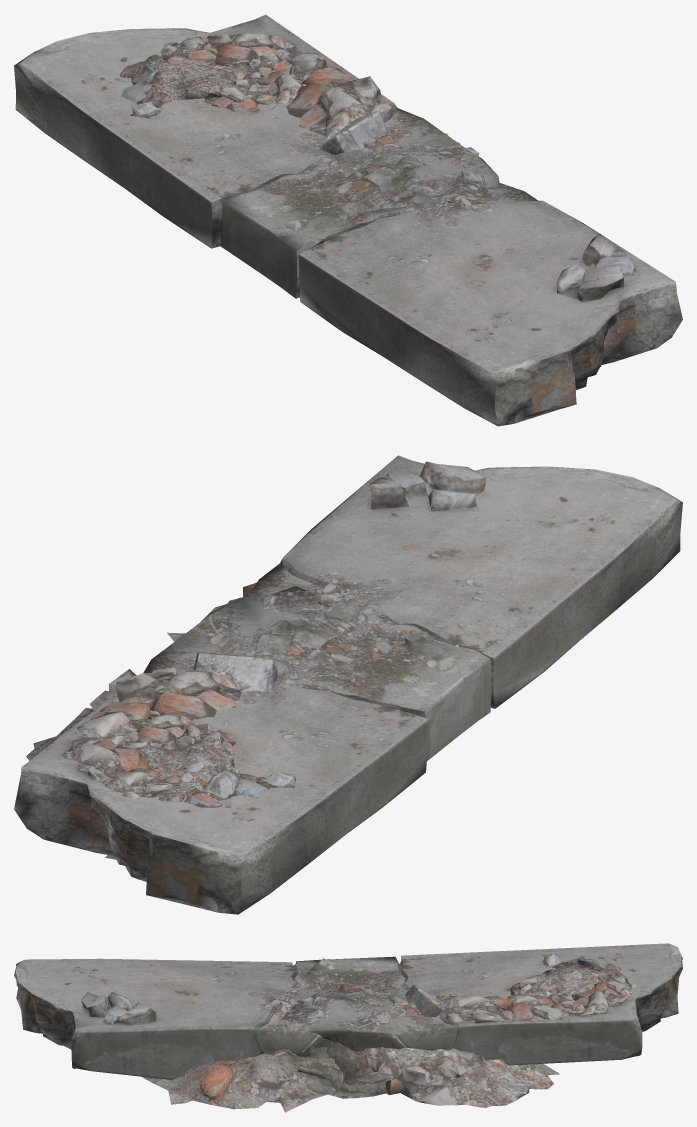
File: SM_Stairs_01_15.fbx
3 renders of one model, top to bottom at view 1: azimuth 30°, elevation 25°; view 2: azimuth 150°, elevation 25°; view 3: azimuth 270°, elevation 25°, orthographic. The views are drawn at different scales.
Visible parts, largest first — view 1: sm_Stairs_01_15_LOD0; view 2: sm_Stairs_01_15_LOD0; view 3: sm_Stairs_01_15_LOD0.
Boxes of the visible parts, <box> form: sm_Stairs_01_15_LOD0: <box>14,14,682,426</box>; sm_Stairs_01_15_LOD0: <box>14,455,682,914</box>; sm_Stairs_01_15_LOD0: <box>14,943,682,1112</box>.
Bounding box in the file's own units: 292 × 124 × 36.78.
